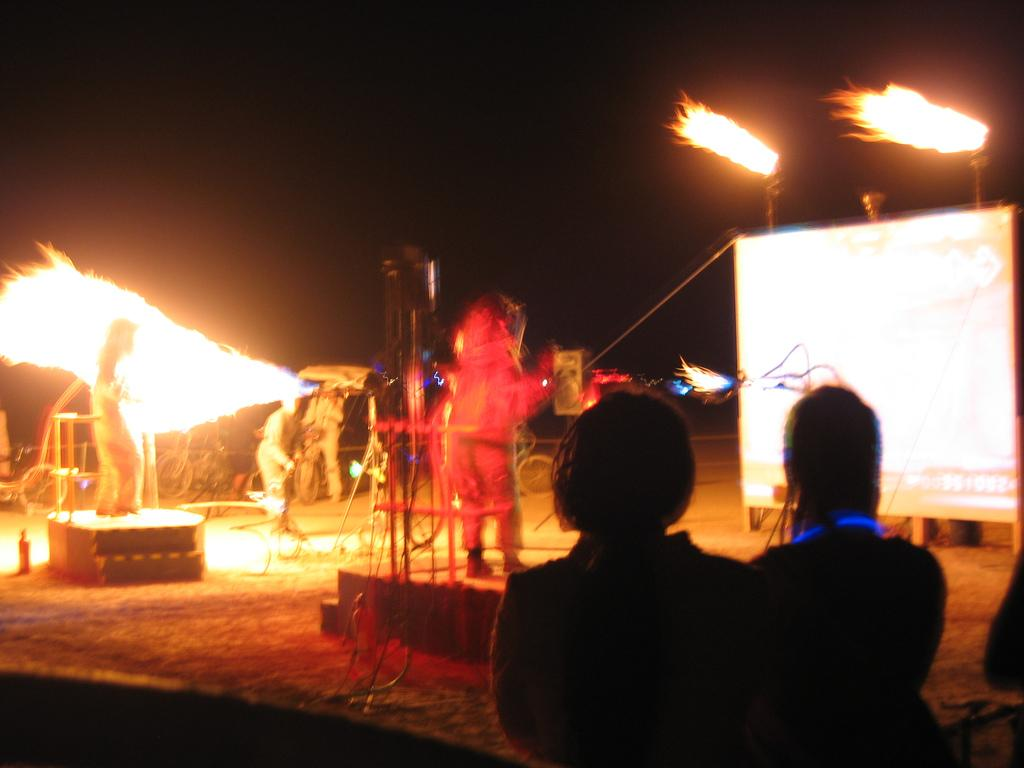fire: (10, 282, 96, 364), (138, 352, 240, 412), (694, 124, 760, 162), (874, 96, 930, 138)
